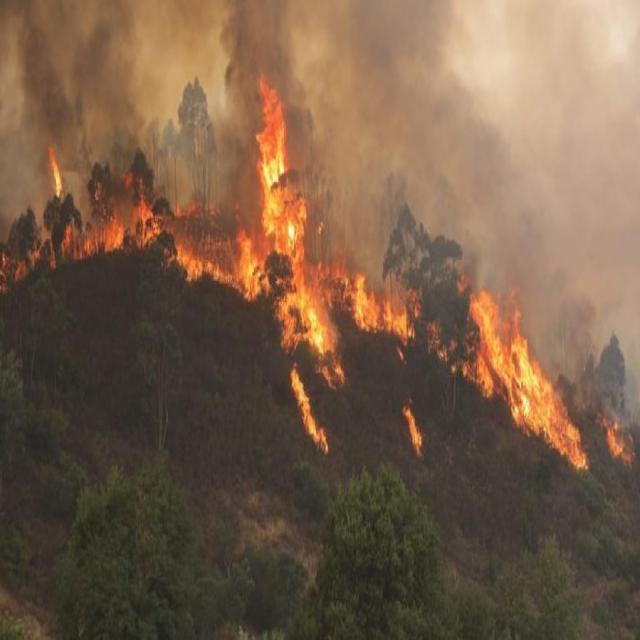Fire: (6, 80, 592, 467), (289, 372, 328, 452), (604, 414, 635, 462), (402, 405, 423, 457), (44, 144, 64, 198)
